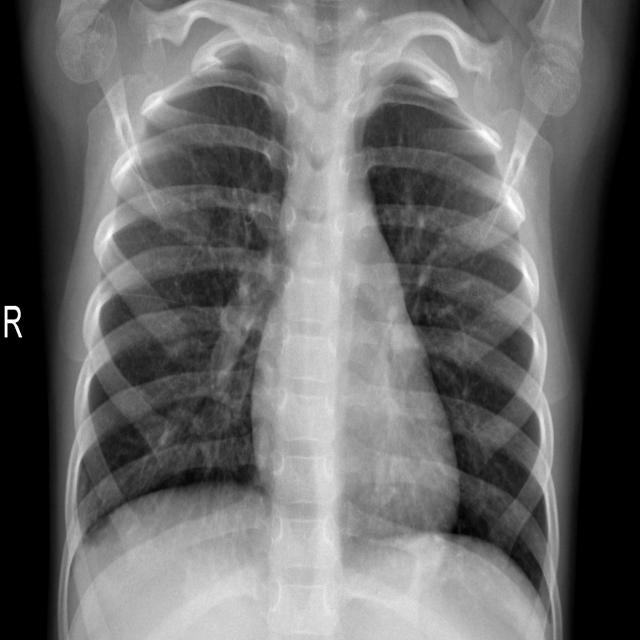low-pneumonia: (208, 239, 290, 424)
